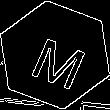M_N: (22, 23, 88, 87)
